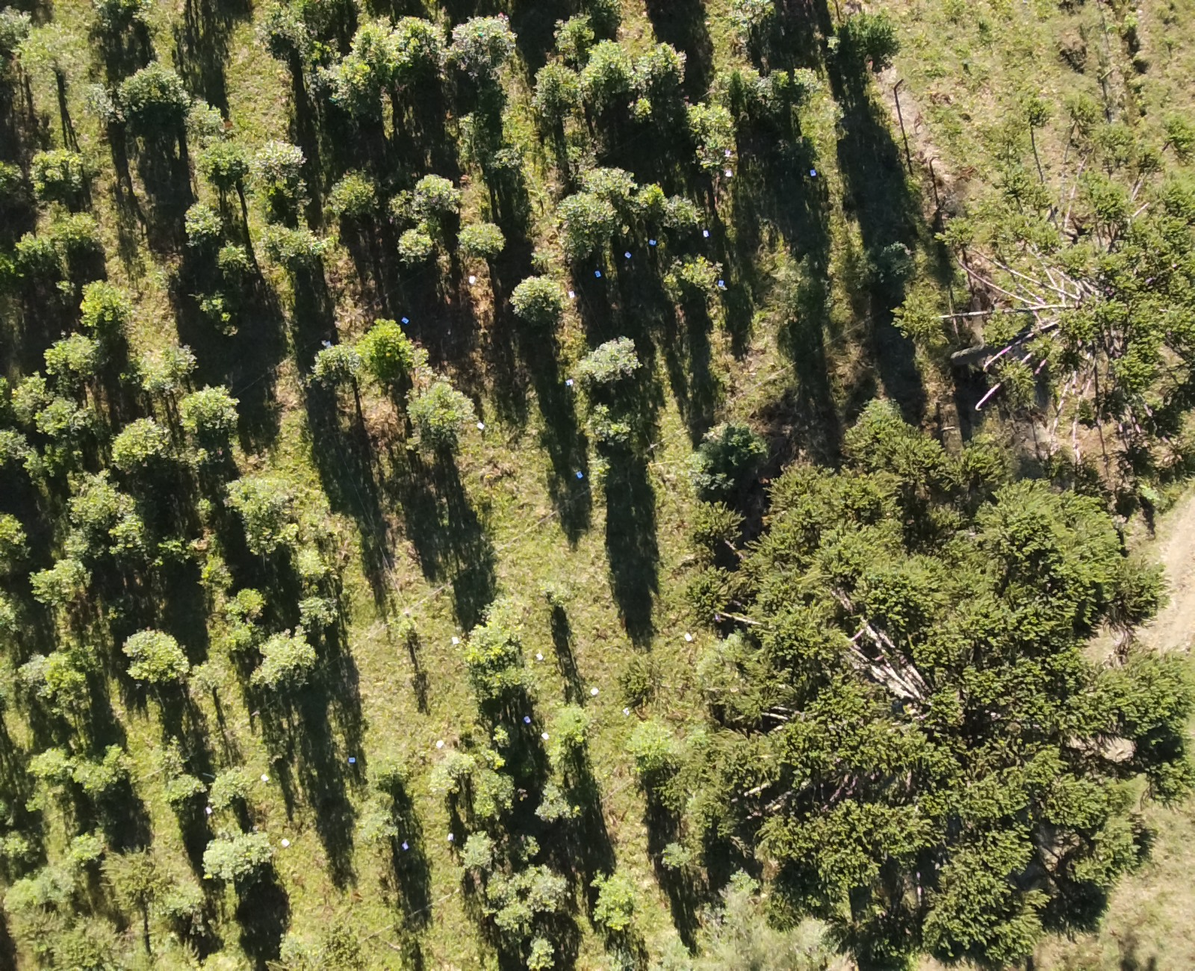erva: (119, 624, 193, 698), (651, 248, 730, 313), (350, 320, 424, 388), (453, 17, 515, 98), (221, 480, 309, 534), (21, 23, 84, 97), (338, 21, 404, 89), (583, 866, 645, 937), (557, 184, 619, 255), (52, 469, 126, 528), (204, 824, 273, 887), (100, 421, 171, 480), (256, 633, 325, 693), (25, 644, 83, 715), (391, 7, 446, 81), (509, 269, 572, 332), (418, 380, 484, 440), (121, 65, 190, 122), (136, 332, 199, 393), (35, 318, 96, 380), (844, 15, 906, 72), (328, 58, 385, 120), (582, 159, 651, 210), (582, 43, 634, 109), (265, 225, 328, 279), (60, 207, 125, 259), (307, 335, 362, 396), (25, 146, 93, 195), (29, 557, 95, 607), (173, 384, 237, 435), (77, 272, 134, 329), (762, 66, 819, 122), (524, 61, 579, 118), (462, 220, 520, 274), (538, 579, 603, 627), (580, 340, 645, 388), (646, 35, 698, 94), (447, 823, 499, 877), (546, 10, 600, 62), (468, 768, 518, 823), (196, 140, 258, 184), (482, 660, 541, 706), (210, 763, 267, 809), (9, 225, 60, 276), (416, 751, 477, 793), (621, 175, 673, 223), (683, 102, 741, 145), (627, 716, 676, 765), (108, 509, 156, 559), (180, 90, 226, 142), (352, 801, 401, 849), (329, 174, 377, 223), (557, 699, 603, 750), (586, 402, 637, 448), (481, 143, 535, 186), (211, 241, 259, 289), (249, 131, 302, 174), (464, 878, 512, 925), (486, 899, 537, 943), (658, 196, 715, 235), (403, 174, 462, 211), (181, 199, 228, 245), (384, 604, 429, 648), (86, 81, 127, 129), (293, 594, 347, 629), (204, 613, 250, 654), (190, 660, 227, 709), (394, 225, 438, 266), (620, 96, 661, 140), (194, 553, 240, 592), (164, 773, 205, 816), (291, 545, 337, 583), (71, 760, 114, 800), (226, 581, 270, 619), (472, 604, 524, 636), (686, 149, 738, 181), (43, 396, 87, 433), (527, 865, 565, 906), (381, 182, 423, 219), (368, 749, 412, 782), (524, 931, 561, 970), (25, 745, 65, 775), (99, 739, 134, 772)
